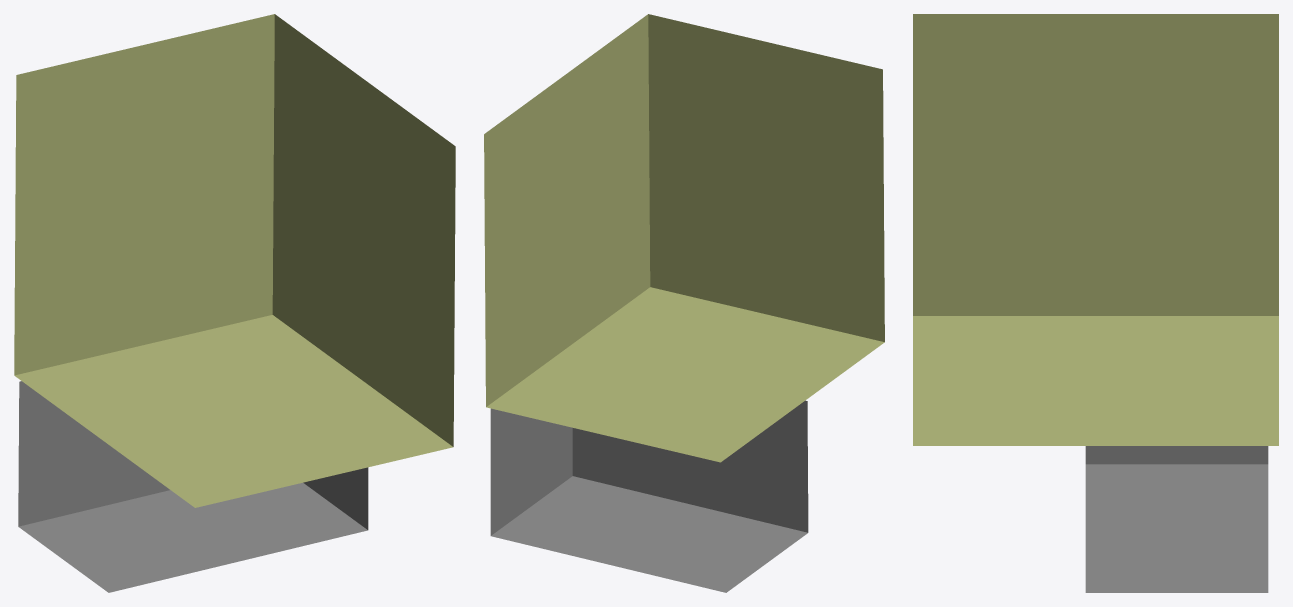
3 views of the same model, side by side, from view 1: azimuth 30°, elevation 25°; view 2: azimuth 150°, elevation 25°; view 3: azimuth 270°, elevation 25° (orthographic). The views are drawn at different scales.
Visible parts, largest first — view 1: 0_2_3_2_1_2_0_3_1_1_1; view 2: 0_2_3_2_1_2_0_3_1_1_1; view 3: 0_2_3_2_1_2_0_3_1_1_1.
Part boxes in pixels (x1,y1,x2,y2): 0_2_3_2_1_2_0_3_1_1_1: [14, 14, 455, 592]; 0_2_3_2_1_2_0_3_1_1_1: [484, 14, 884, 592]; 0_2_3_2_1_2_0_3_1_1_1: [913, 14, 1278, 592].
Size of the model in its own units: 5.01 by 8.19 by 6.
